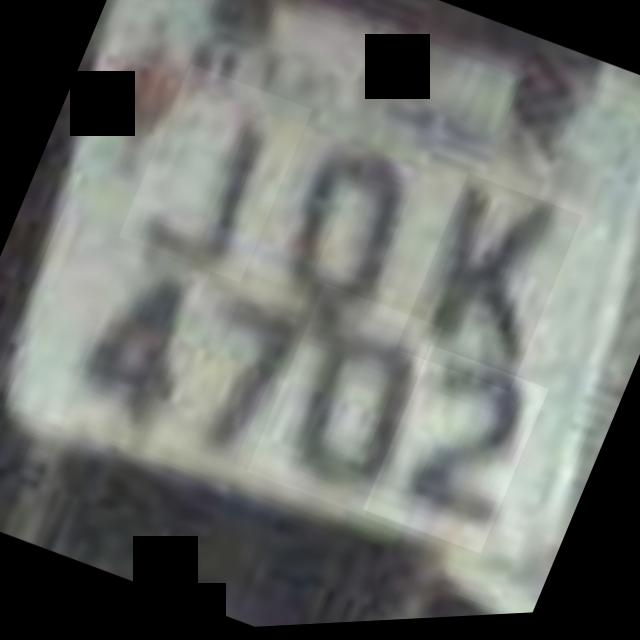0: (246, 282, 442, 524)
2: (362, 345, 548, 563)
4: (36, 209, 236, 454)
7: (140, 258, 326, 490)
J: (118, 61, 312, 290)
K: (395, 173, 582, 402)
O: (248, 111, 456, 353)
